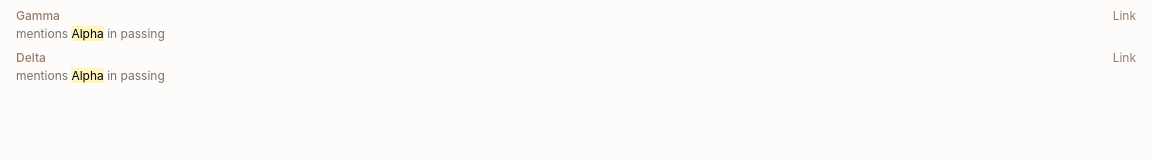
Test: UnlinkedMentionsPanel › removes entry from list after linking
The width and height of the screenshot is (1152, 160).
Expected: the button "Gamma" is shown, [16,8,60,24]
Click the 1st button "Link" at (1124, 16), box [1113,8,1136,24]
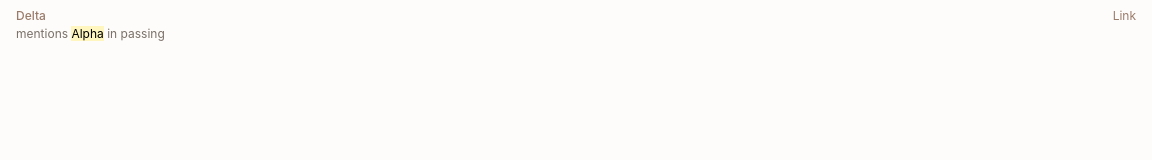
Expected: the button "Delta" is shown, [16,8,46,24]
Now the button "Gamma" is gone
